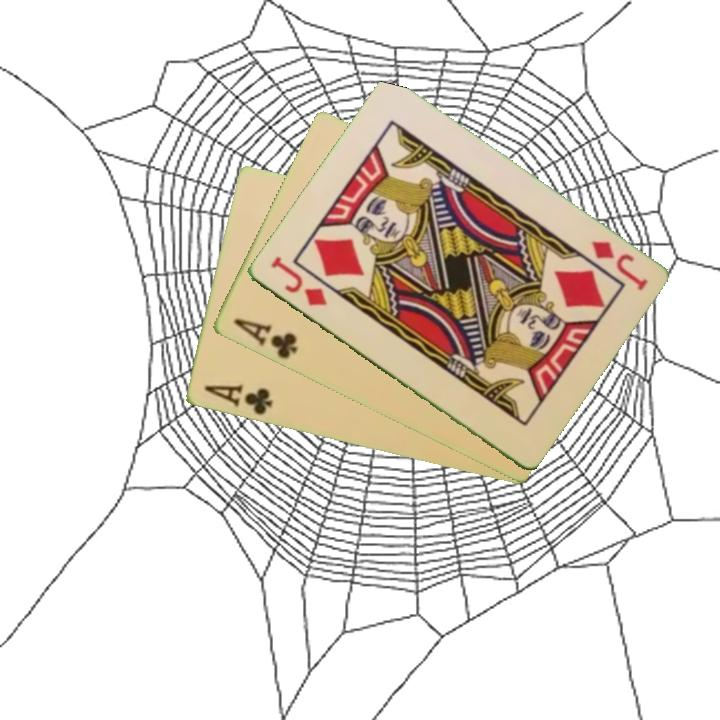Ac: (229, 315, 300, 362), (200, 380, 275, 419)
Jd: (267, 252, 330, 310), (586, 237, 650, 294)
